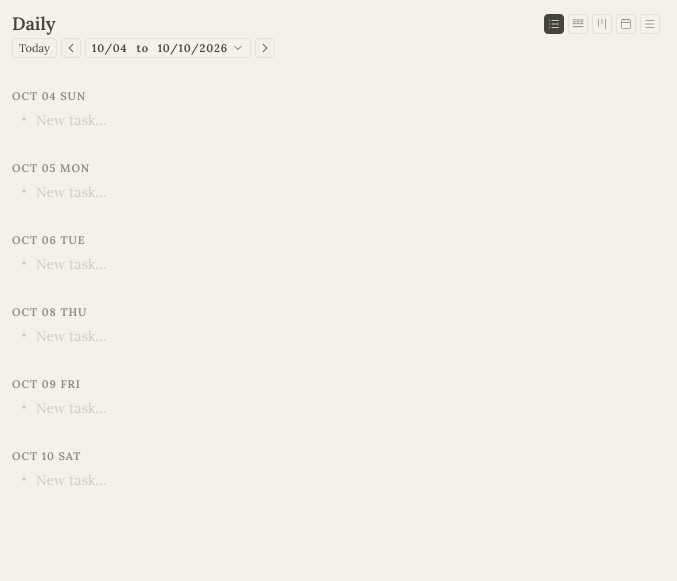
Daily asks for one range per view › list asks for the selected week once the week selector moves away from this one
The width and height of the screenshot is (677, 581).
Click the button named "Next week": (265, 48) [255,38,275,58]
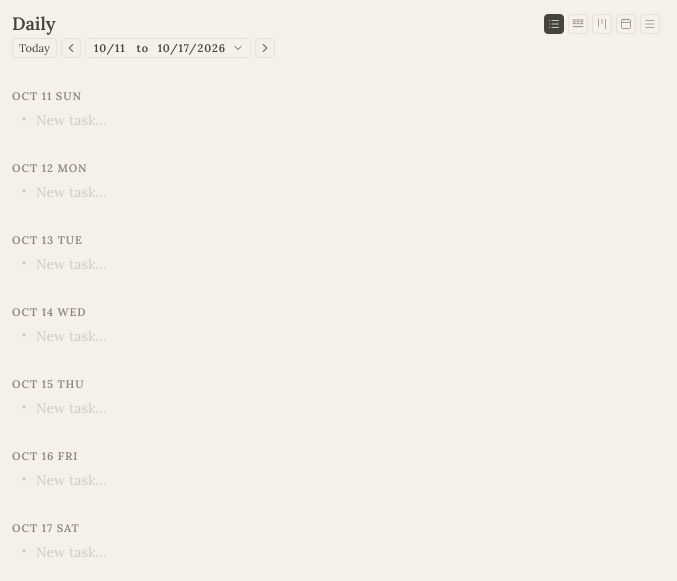
Expected: the number of fields named "New task…" is 7
